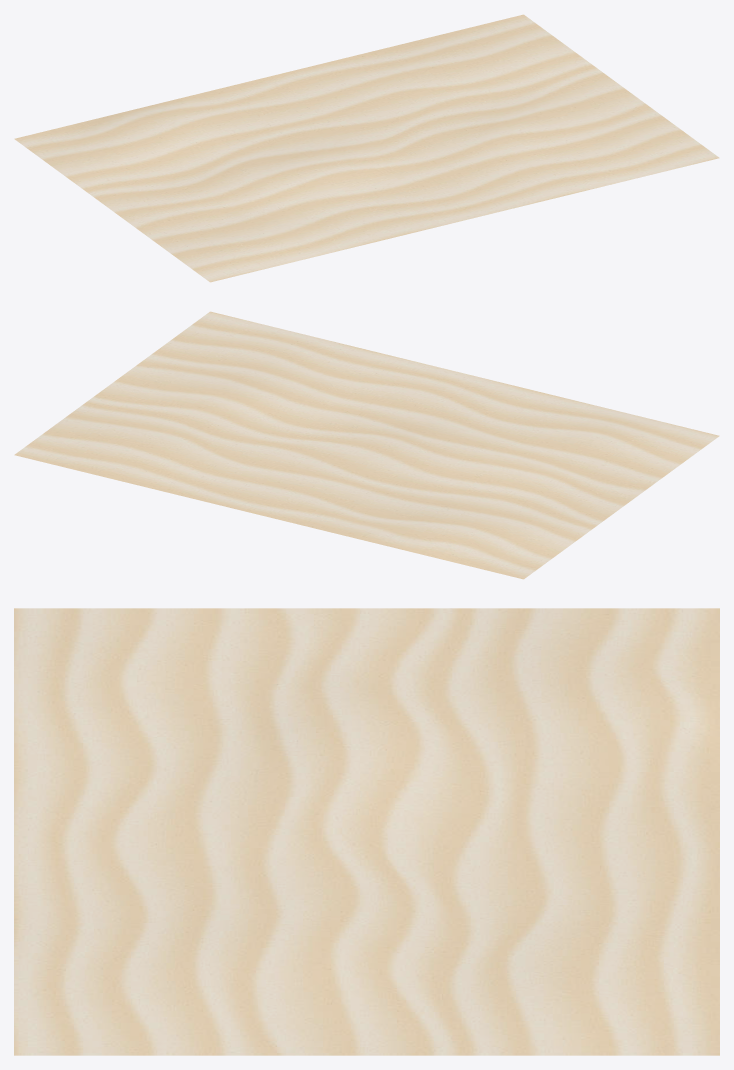
The model's file is cartoon.glb.
3 views of the same model, one above another, from view 1: azimuth 30°, elevation 25°; view 2: azimuth 150°, elevation 25°; view 3: azimuth 270°, elevation 25° (orthographic). The views are drawn at different scales.
Visible parts, largest first — view 1: Plane; view 2: Plane; view 3: Plane.
Part boxes in pixels (x1,y1,x2,y2): Plane: (14,14,719,282); Plane: (14,311,719,579); Plane: (14,608,719,1055).
Bounding box in the file's own units: 60 × 0.4133 × 40.
1 material, 1 textured.
